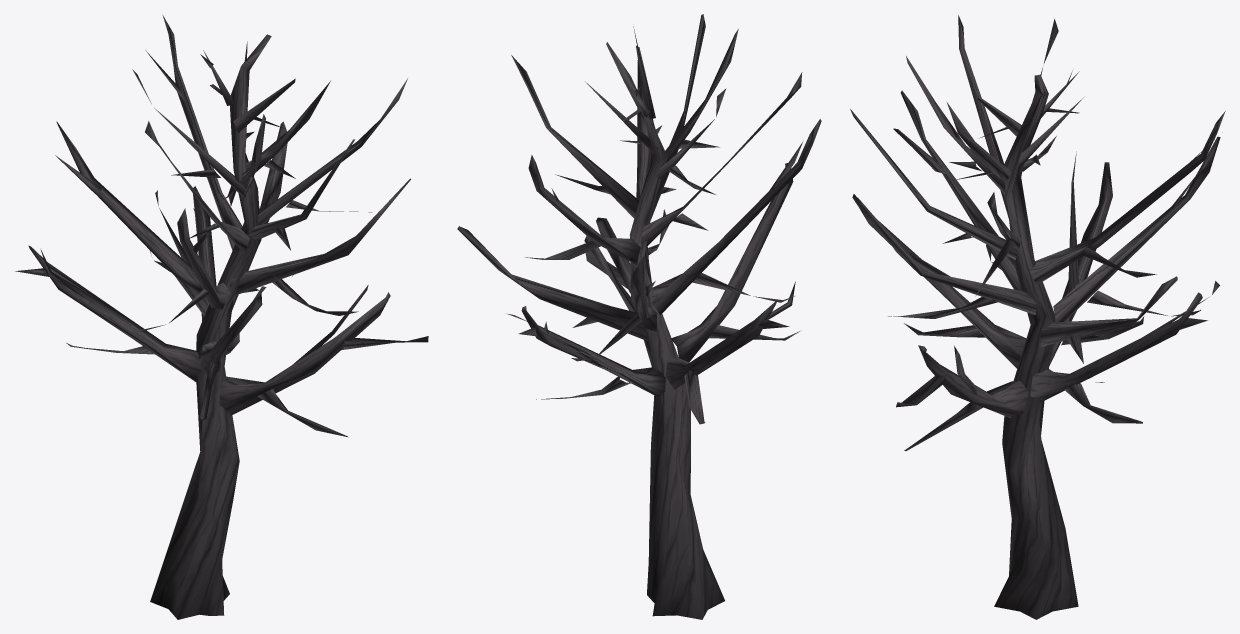
File: deadtree2.glb
The picture shows the model from 3 angles, left to right: view 1: azimuth 30°, elevation 25°; view 2: azimuth 150°, elevation 25°; view 3: azimuth 270°, elevation 25°; orthographic projection. The views are drawn at different scales.
Parts seen in each view (by area): view 1: DeadTree_1; view 2: DeadTree_1; view 3: DeadTree_1.
Boxes of the visible parts, left/top/right/bottom form: DeadTree_1: left=15, top=15, right=428, bottom=619; DeadTree_1: left=457, top=14, right=821, bottom=619; DeadTree_1: left=850, top=15, right=1225, bottom=619.
Bounding box in the file's own units: 6.12 × 9.49 × 5.72.
Materials: 1 (1 with a texture image).
